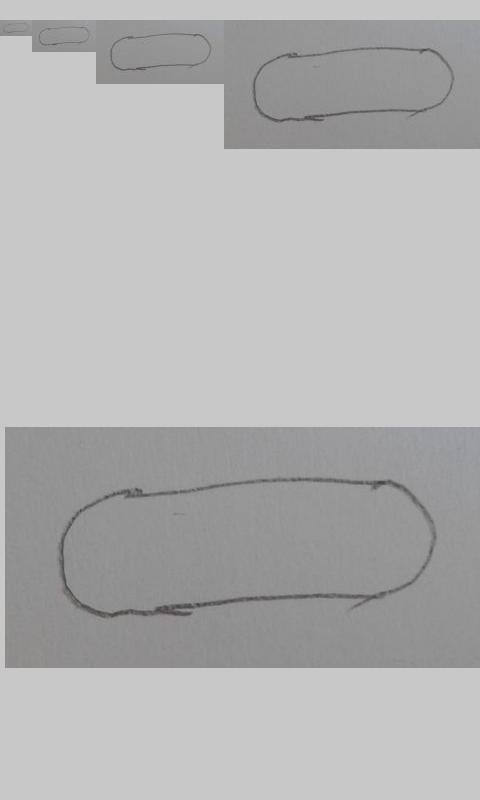chip: (58, 477, 440, 618), (253, 46, 455, 123), (110, 33, 213, 71), (38, 26, 91, 46), (2, 22, 31, 33)
